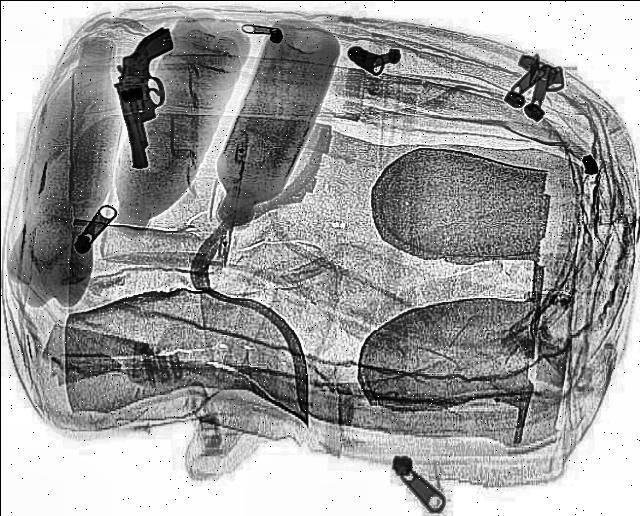Gun: (104, 26, 194, 170)
